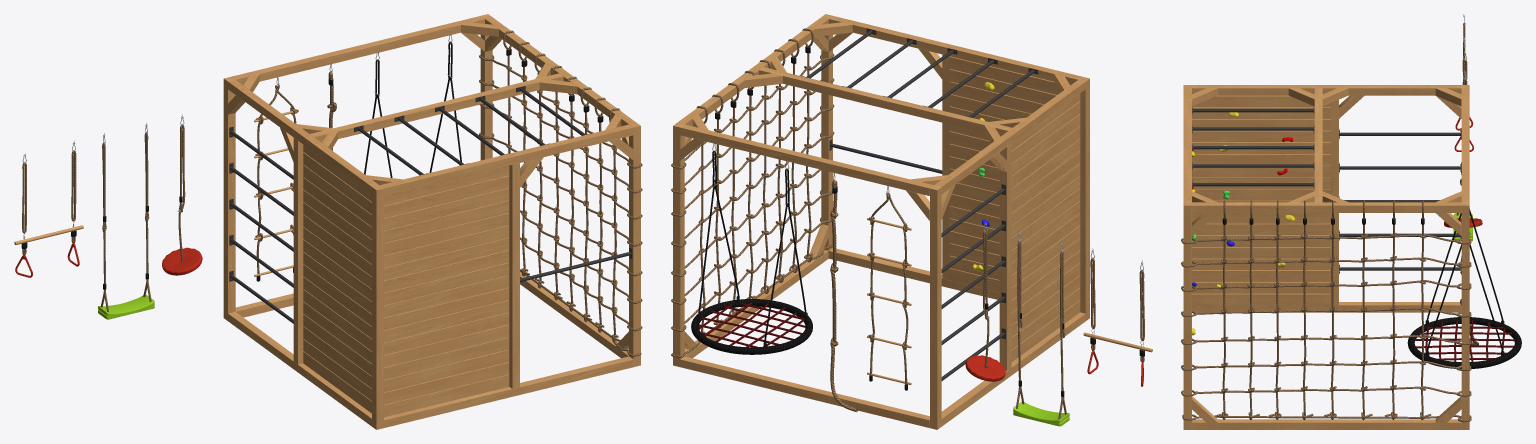
Rendered from wooden-boyz-jasiek.fbx.
3 views of the same model, side by side, from view 1: azimuth 30°, elevation 25°; view 2: azimuth 150°, elevation 25°; view 3: azimuth 270°, elevation 25° (orthographic). The views are drawn at different scales.
Visible parts, largest first — view 1: jasiek, swing2, swing1, swing3; view 2: jasiek, swing2, swing1, swing3; view 3: jasiek.
Part boxes in pixels (x1,y1,x2,y2): jasiek: (223,14,642,429); swing2: (98,122,154,319); swing1: (14,140,83,277); swing3: (162,114,202,275); jasiek: (671,14,1089,429); swing2: (1013,231,1069,426); swing1: (1083,248,1152,386); swing3: (965,221,1005,381); jasiek: (1181,85,1521,429).
Bounding box in the file's own units: 447 × 216 × 295.
Materials: 18 (5 with a texture image).
